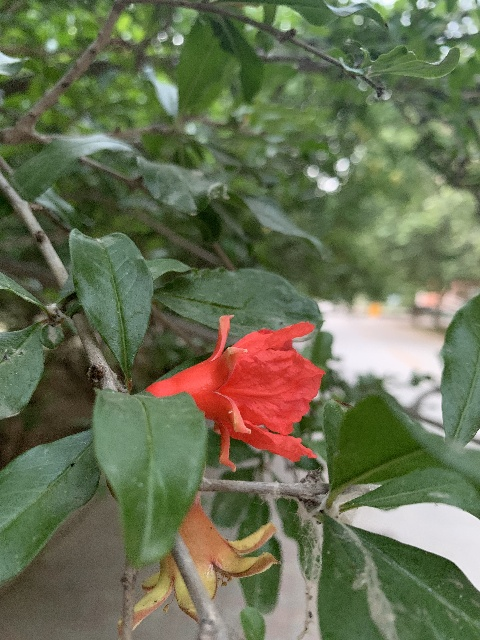early-fruit: (121, 490, 280, 636)
flower: (145, 313, 326, 470)
